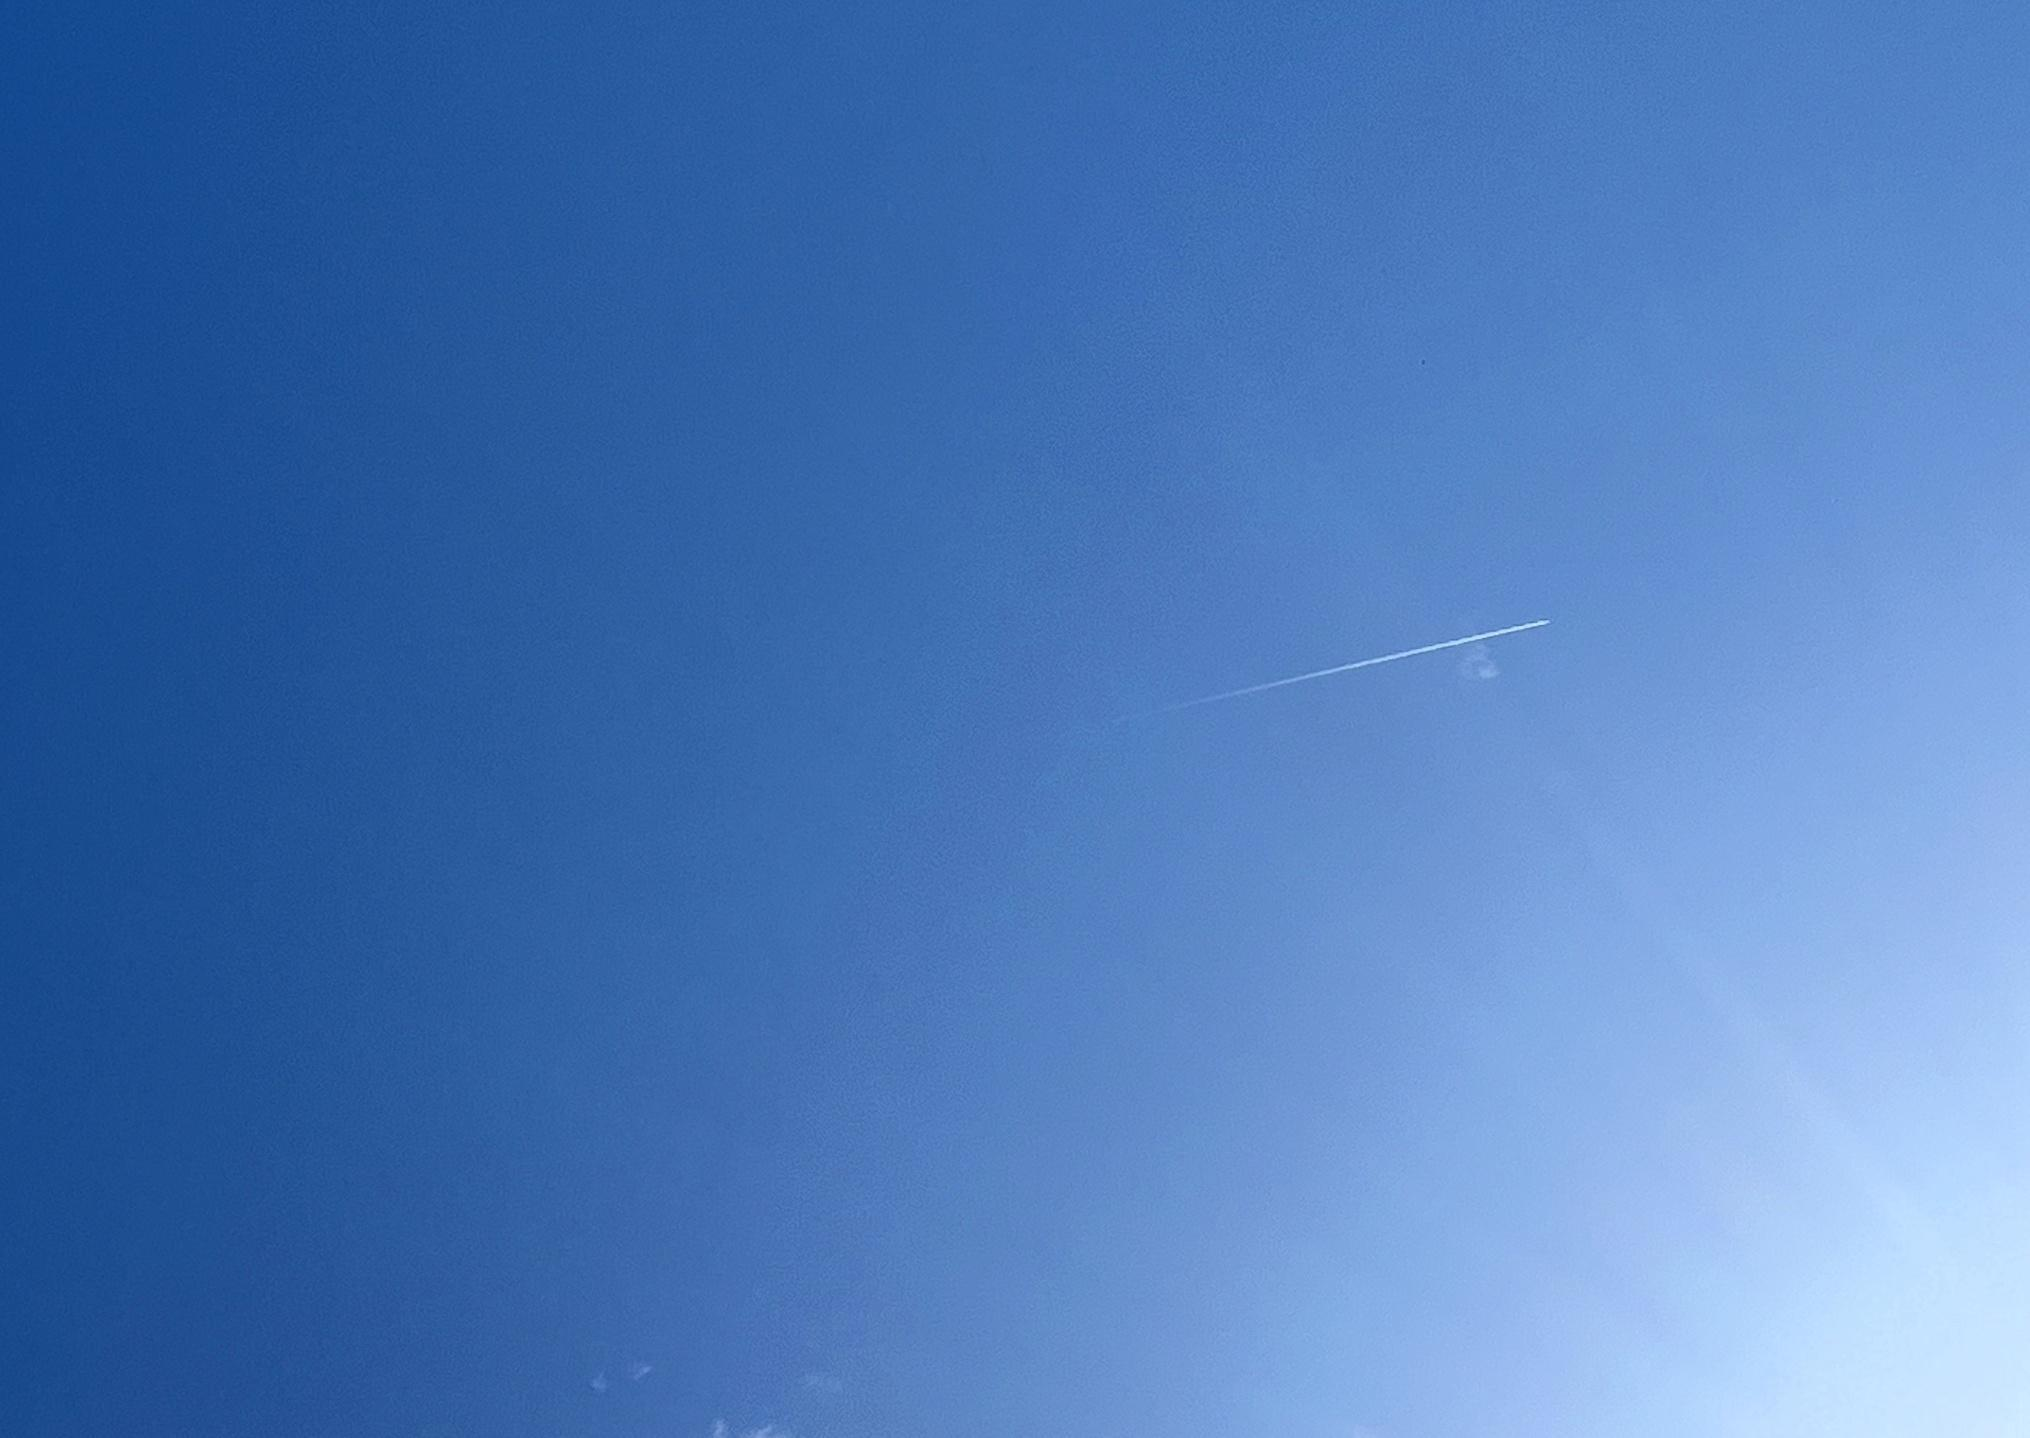Plane: (1159, 605, 1568, 721)
